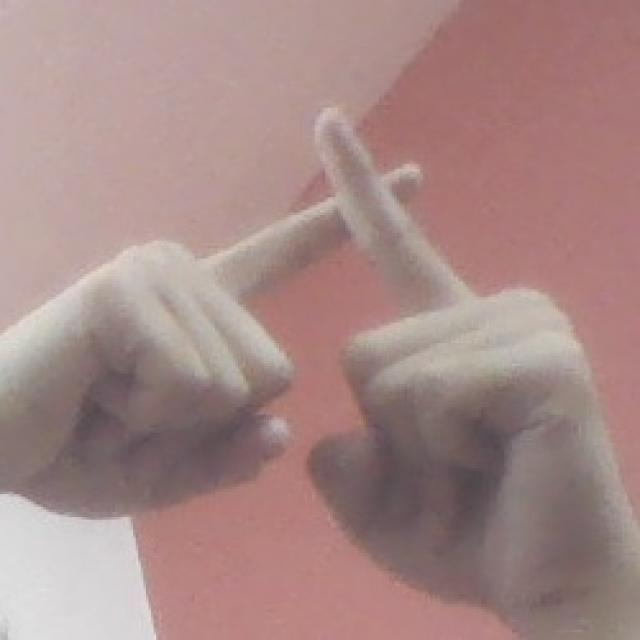Alphabet-X: (0, 95, 628, 597), (458, 620, 458, 621)
